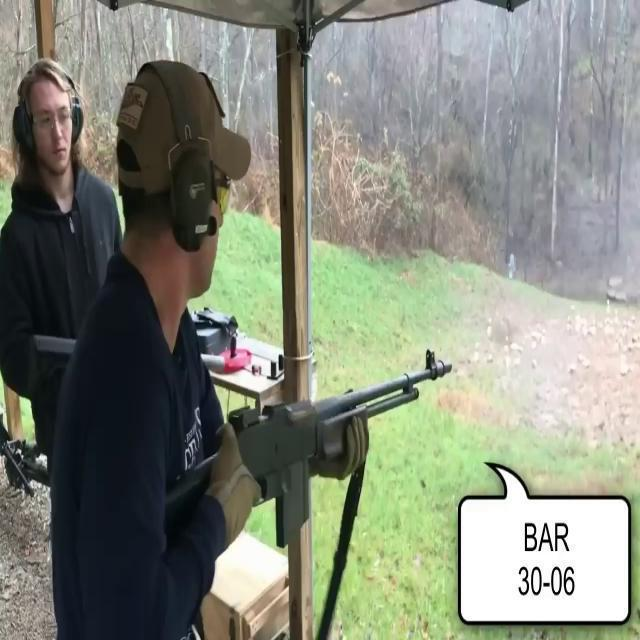Rifle: (170, 351, 484, 594)
